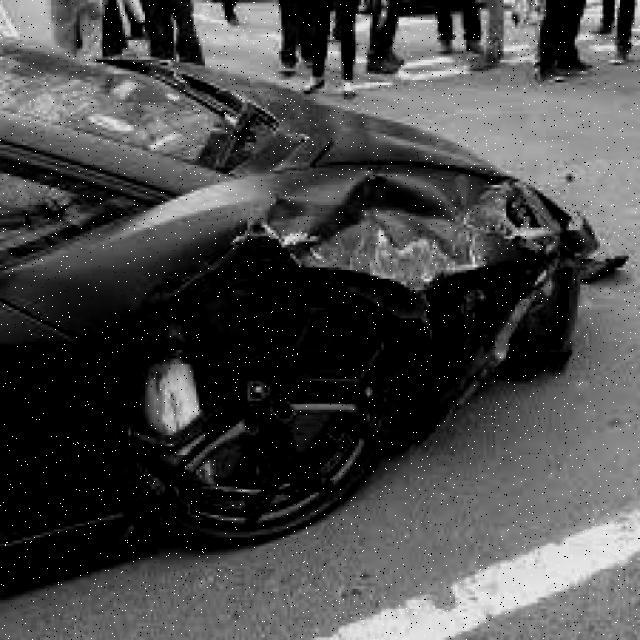car damage: (124, 154, 629, 441)
